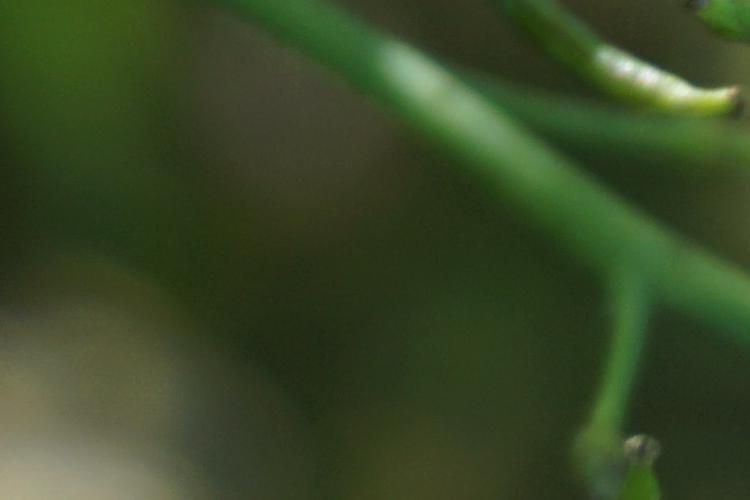pod: (545, 26, 746, 129), (530, 377, 673, 500)
